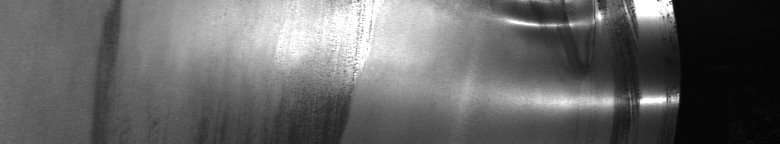ke: (484, 4, 664, 123)
